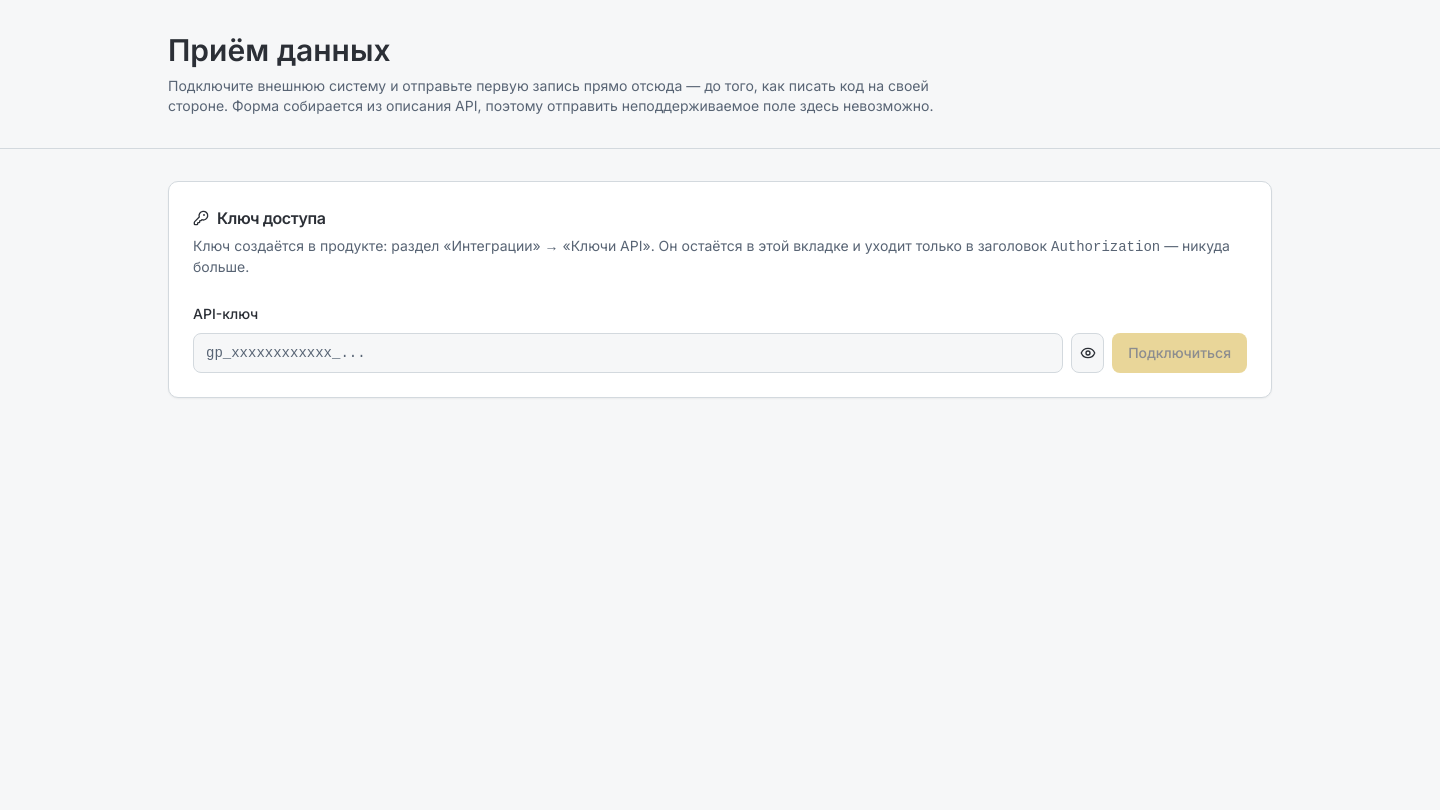
Test: консоль приёма данных › отправляет upsert с внешним ключом и только заполненными полями
The image size is (1440, 810).
Later steps or results of the test are not shown.
Step 1. Type "gp_test_secret" into the password field labelled "API-ключ" → (628, 353), box [193, 333, 1063, 373]
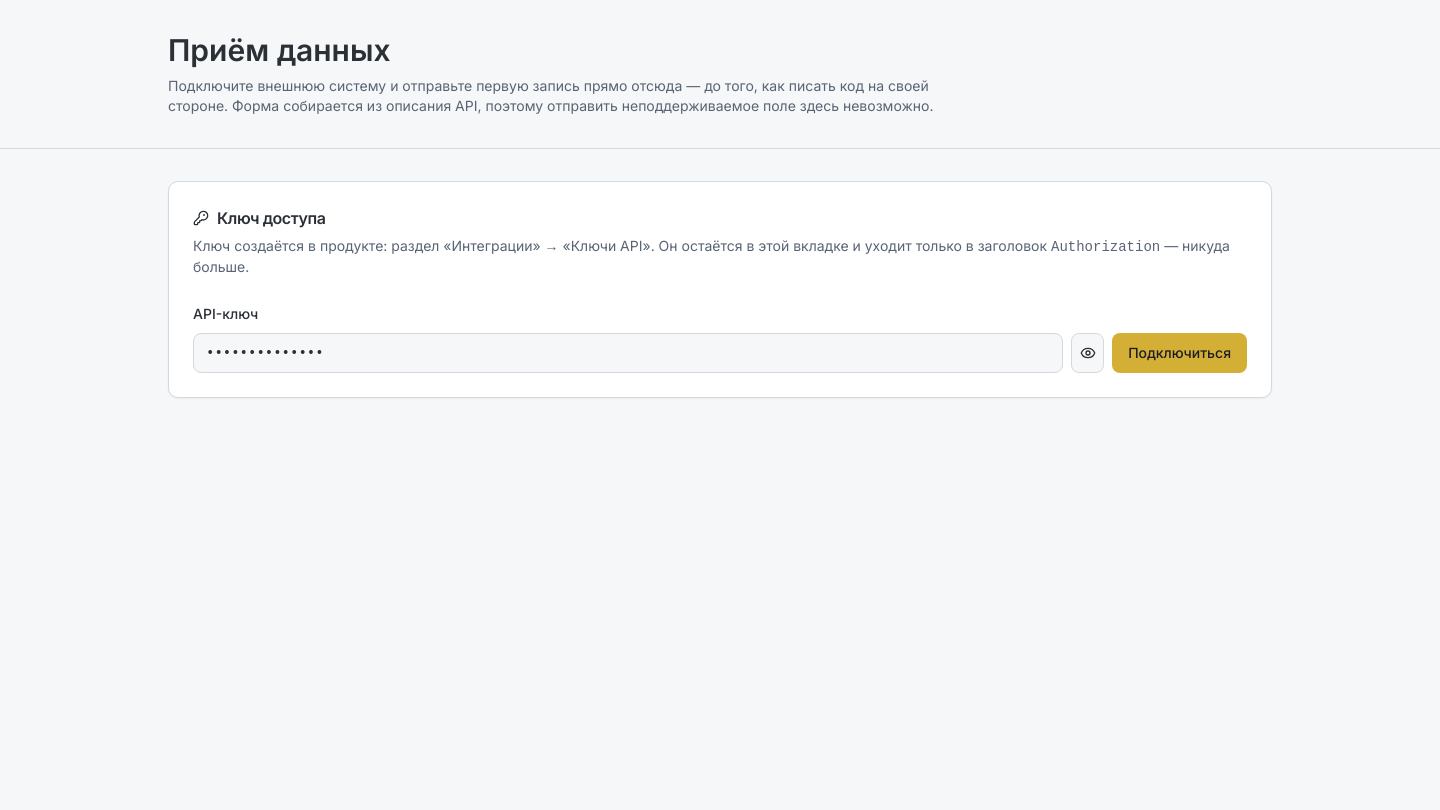
Step 2. Click the button "Подключиться" → (1180, 353), box [1112, 333, 1247, 373]
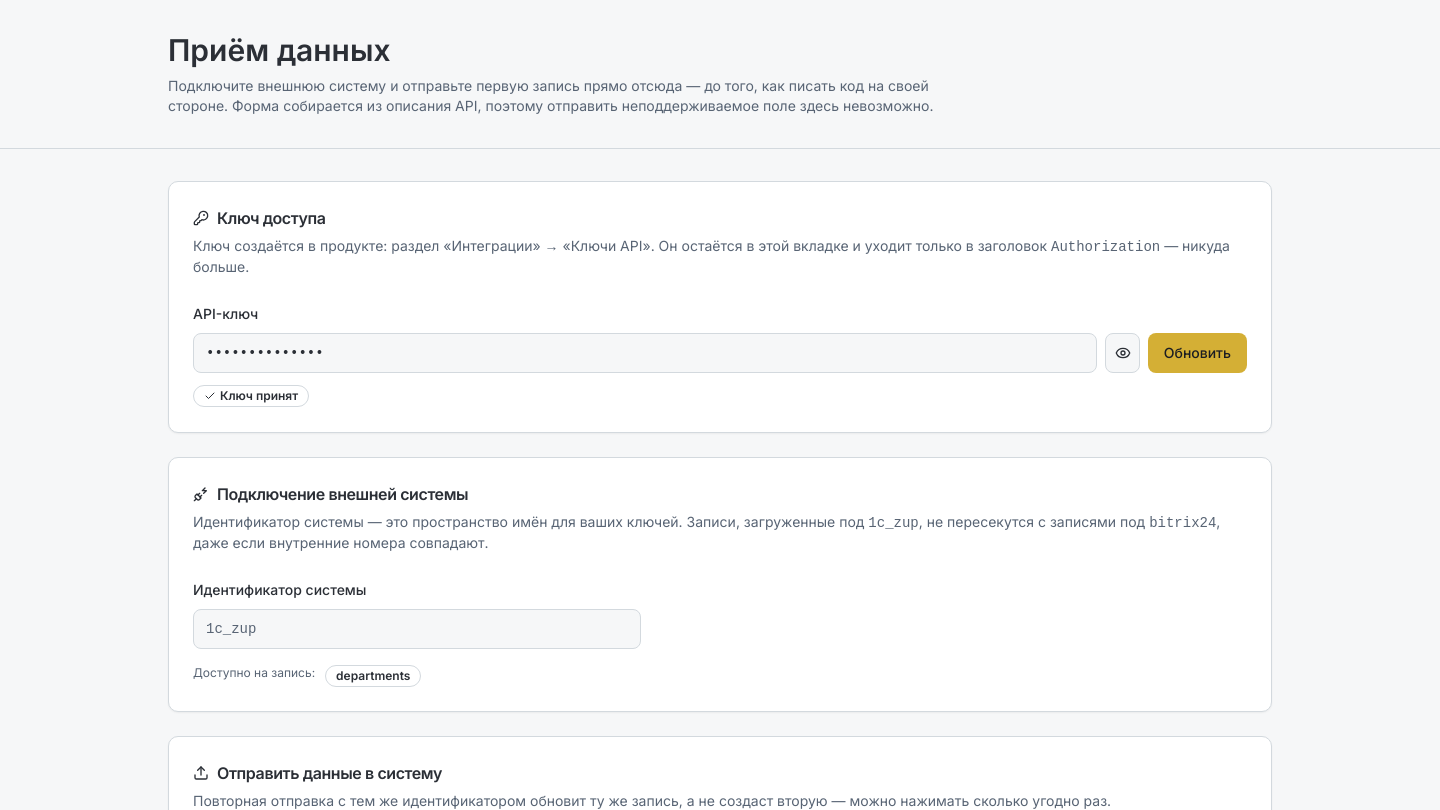
Now the field labelled "Идентификатор системы" is shown, box [193, 609, 641, 649]
